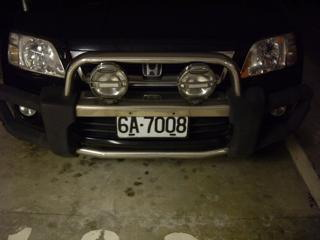plate: (114, 114, 190, 140)
